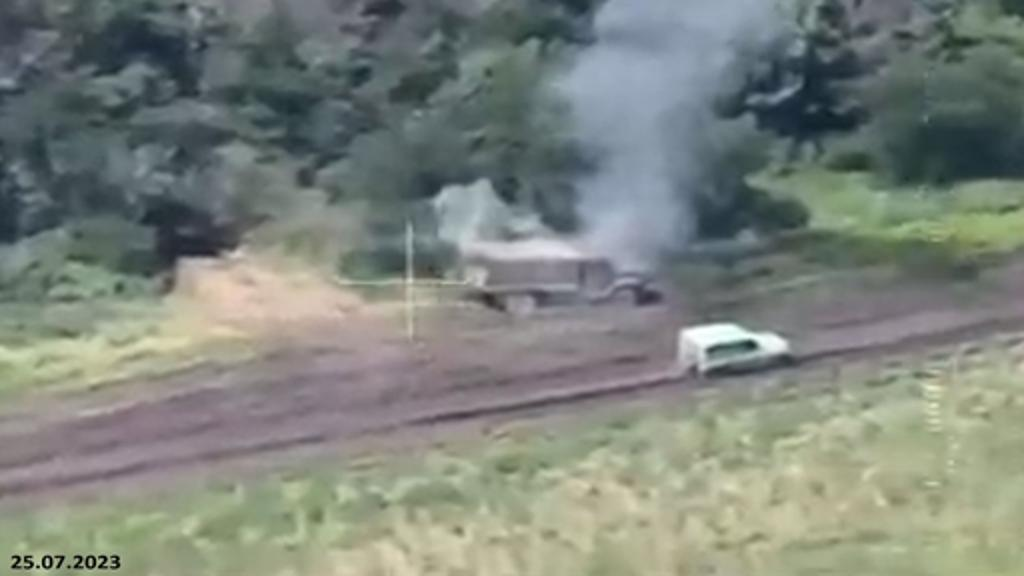CAR: (670, 318, 798, 380)
TRUCK: (458, 232, 656, 318)
